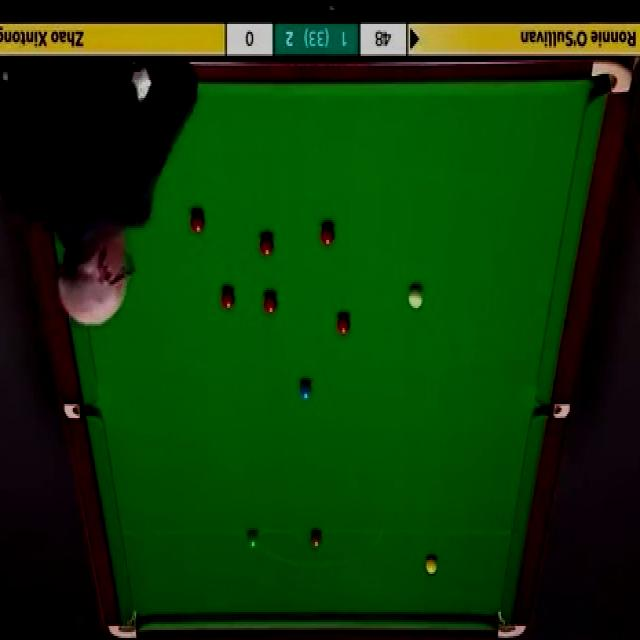blue-ball: (299, 378, 312, 404)
brown-ball: (309, 531, 323, 549)
green-ball: (245, 530, 260, 552)
red-ball: (318, 222, 336, 248), (189, 208, 206, 235), (262, 292, 280, 315), (260, 234, 275, 258), (220, 288, 234, 312), (337, 316, 351, 337)
white-ball: (409, 285, 423, 308)
yellow-ball: (425, 555, 437, 574)
